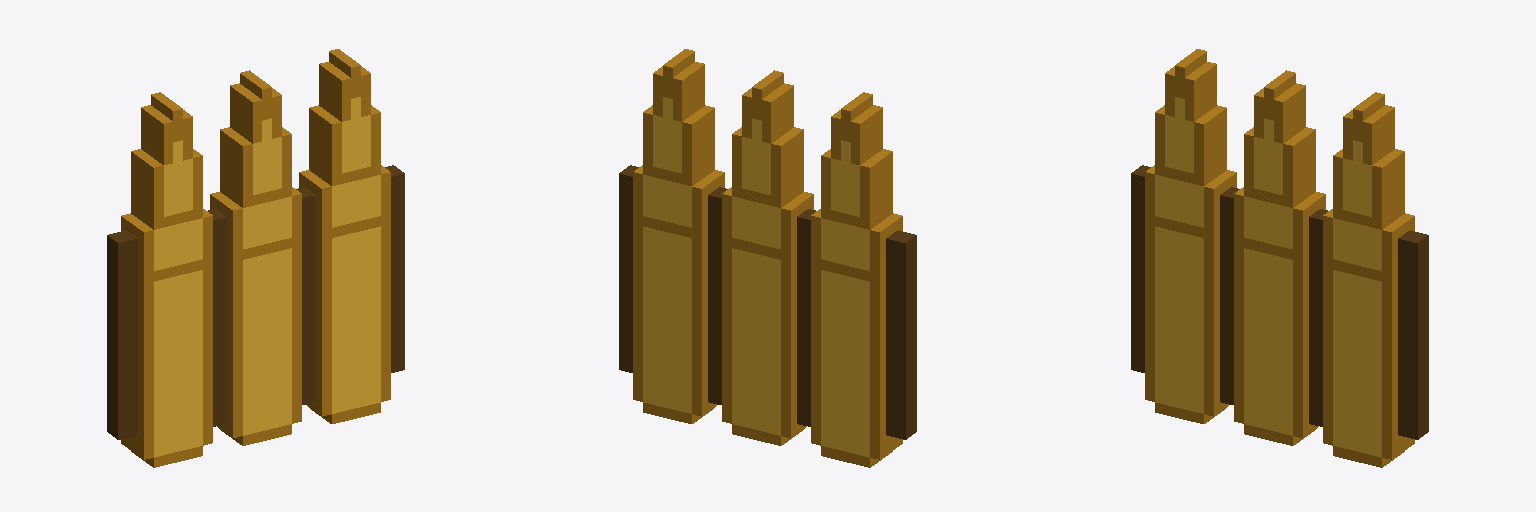
3 renders of one model, left to right at view 1: azimuth 30°, elevation 25°; view 2: azimuth 150°, elevation 25°; view 3: azimuth 330°, elevation 25°, orthographic.
Parts seen in each view (by area): view 1: object 1; view 2: object 1; view 3: object 1.
Part boxes in pixels (x1,y1,x2,y2): object 1: (107, 49, 404, 467); object 1: (619, 49, 916, 467); object 1: (1131, 49, 1428, 467).
Size of the model in its own units: 2.9 by 3.4 by 0.4.
1 materials, 1 textured.